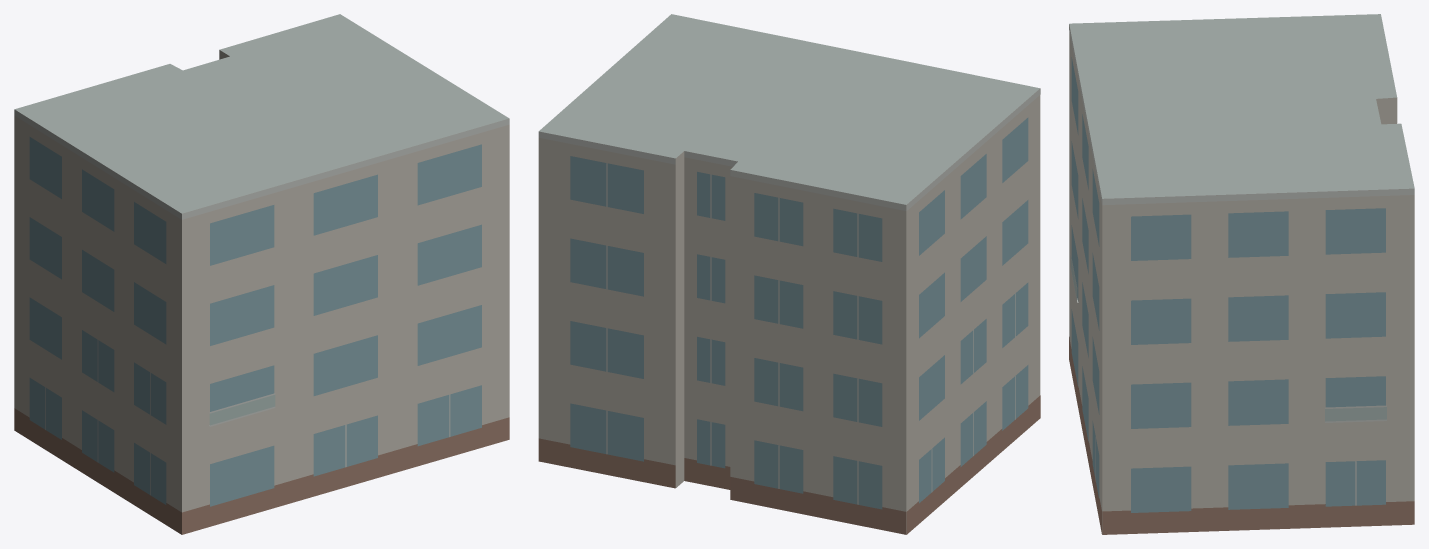
File: survey-upis-32723257.glb
3 views of the same model, side by side, from view 1: azimuth 30°, elevation 25°; view 2: azimuth 150°, elevation 25°; view 3: azimuth 270°, elevation 25° (orthographic). The views are drawn at different scales.
Parts seen in each view (by area): view 1: survey-upis-32723257.tmp; view 2: survey-upis-32723257.tmp; view 3: survey-upis-32723257.tmp.
Part boxes in pixels (x1=…): survey-upis-32723257.tmp: x1=14, y1=14, x2=509, y2=534; survey-upis-32723257.tmp: x1=538, y1=14, x2=1040, y2=534; survey-upis-32723257.tmp: x1=1069, y1=14, x2=1414, y2=534.
Bounding box in the file's own units: 15.11 × 12.8 × 11.94.
